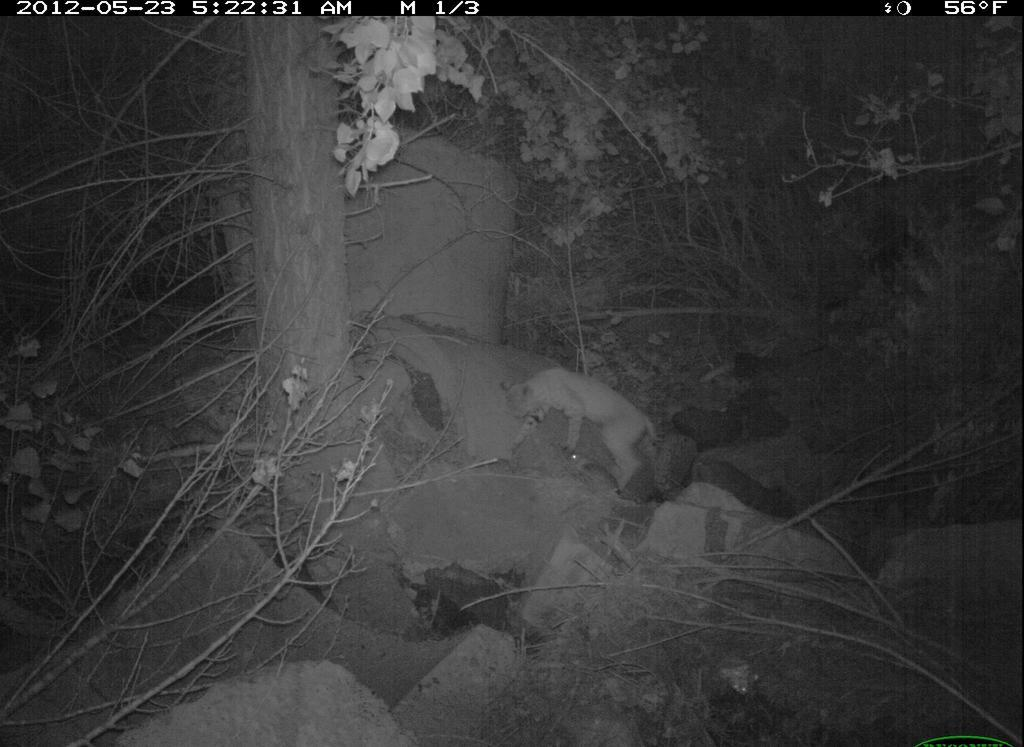bobcat: (498, 363, 672, 497)
